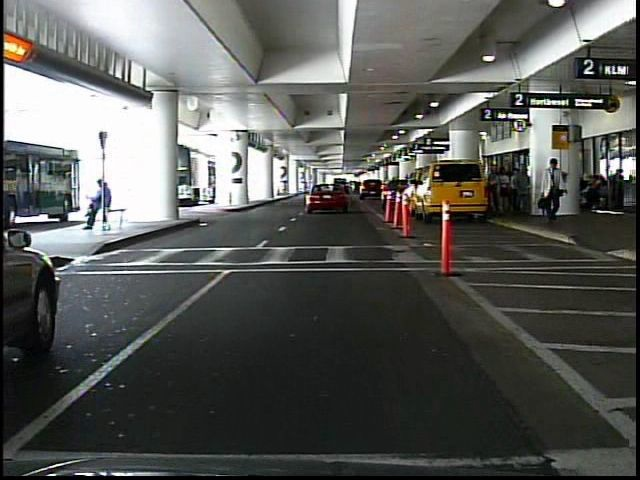person: (538, 157, 568, 224), (514, 163, 534, 219), (498, 165, 513, 217)
